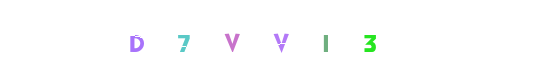1: (295, 0, 375, 80)
3: (330, 0, 410, 80)
7: (159, 0, 239, 80)
D: (148, 0, 228, 80)
V: (169, 0, 249, 80), (230, 0, 310, 80)
